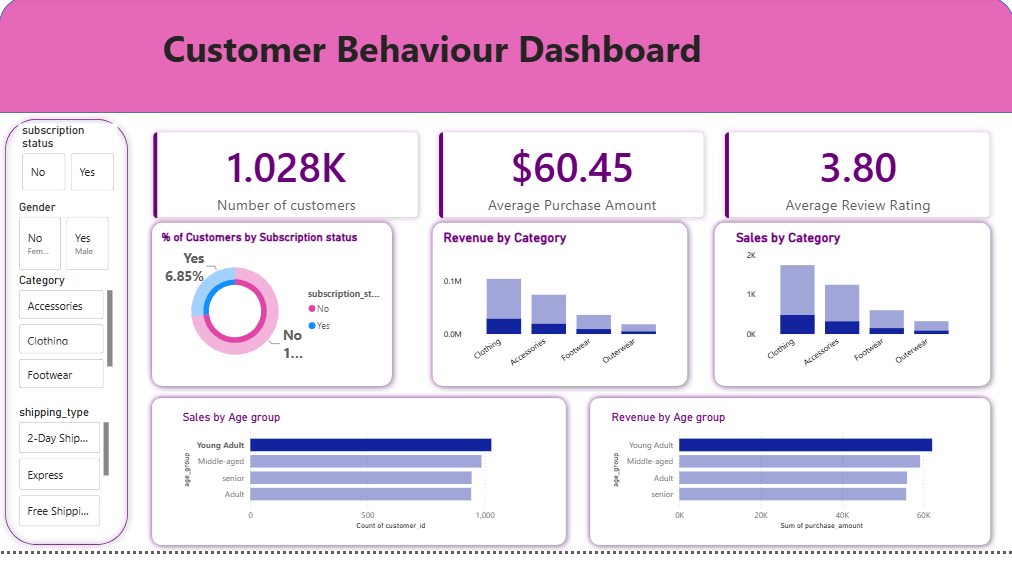

The dashboard page shown, as its layout file describes it:
{"tool":"powerbi","page":{"name":"Page 1","canvas":[1500,820],"ordinal":0},"visuals":[{"type":"cardVisual","fields":{"Data":["public customer.Number of customers","public customer.Average Purchase Amount","public customer.Average Review Rating"]},"box":[199.3,172.7,1293.3,183.8],"z":0},{"type":"shape","box":[0,0,1499.3,172.7],"z":1000},{"type":"textbox","box":[0,35.9,1279.4,102],"z":2000},{"type":"shape","box":[217,325.5,372.1,259.1],"z":3000},{"type":"donutChart","title":"% of Customers by Subscription status","fields":{"Category":["public customer.subscription_status"],"Y":["CountNonNull(public customer.customer_id)"]},"box":[234.7,345.5,336.6,219.2],"z":4000},{"type":"shape","box":[631.2,325.5,394.2,259.1],"z":5000},{"type":"shape","box":[1047.5,325.5,425.2,259.1],"z":6000},{"type":"clusteredColumnChart","title":"Revenue by  Category","fields":{"Y":["Sum(public customer.purchase_amount)"],"Category":["public customer.category"]},"box":[651.1,345.5,352.1,219.2],"z":7000},{"type":"clusteredColumnChart","title":"Sales by Category","fields":{"Y":["CountNonNull(public customer.customer_id)"],"Category":["public customer.category"]},"box":[1082.9,345.5,352.1,219.2],"z":8000},{"type":"shape","box":[0,172.7,199.3,646.7],"z":9000},{"type":"advancedSlicerVisual","title":"subscription status","fields":{"Values":["public customer.subscription_status"]},"box":[28.8,188.2,146.2,104.1],"z":10000},{"type":"advancedSlicerVisual","title":"Gender","fields":{"Values":["public customer.subscription_status"],"Label":["Min(public customer.gender)"]},"box":[24.4,301.2,143.9,108.5],"z":11000},{"type":"advancedSlicerVisual","title":"Category","fields":{"Values":["public customer.category"]},"box":[24.4,409.7,148.4,175],"z":12000},{"type":"advancedSlicerVisual","fields":{"Values":["public customer.shipping_type"]},"box":[24.4,604.6,143.9,183.8],"z":13000},{"type":"shape","box":[217,584.7,628.9,234.7],"z":14000},{"type":"clusteredBarChart","title":"Sales by Age group","fields":{"Y":["CountNonNull(public customer.customer_id)"],"Category":["public customer.age_group"]},"box":[265.8,611.2,540.4,181.6],"z":15000},{"type":"shape","box":[863.7,584.7,609,234.7],"z":16000},{"type":"clusteredBarChart","title":"Revenue by Age group","fields":{"Y":["Sum(public customer.purchase_amount)"],"Category":["public customer.age_group"]},"box":[899.1,611.2,540.4,181.6],"z":16001}]}

Visuals, with their boxes in screenshot pixels (x1, y1, x2, y2), scaled from the page's 1500x820 canvas onto the 1012x565 screenshot:
cardVisual - public customer.Number of customers x public customer.Average Purchase Amount: bbox(134, 119, 1007, 246)
shape: bbox(0, 0, 1011, 119)
textbox: bbox(0, 25, 863, 95)
shape: bbox(146, 224, 397, 403)
"% of Customers by Subscription status" donutChart: bbox(158, 238, 385, 389)
shape: bbox(426, 224, 692, 403)
shape: bbox(707, 224, 994, 403)
"Revenue by  Category" clusteredColumnChart: bbox(439, 238, 677, 389)
"Sales by Category" clusteredColumnChart: bbox(731, 238, 968, 389)
shape: bbox(0, 119, 134, 564)
"subscription status" advancedSlicerVisual: bbox(19, 130, 118, 201)
"Gender" advancedSlicerVisual: bbox(16, 208, 114, 282)
"Category" advancedSlicerVisual: bbox(16, 282, 117, 403)
advancedSlicerVisual - public customer.shipping_type: bbox(16, 417, 114, 543)
shape: bbox(146, 403, 571, 564)
"Sales by Age group" clusteredBarChart: bbox(179, 421, 544, 546)
shape: bbox(583, 403, 994, 564)
"Revenue by Age group" clusteredBarChart: bbox(607, 421, 971, 546)
